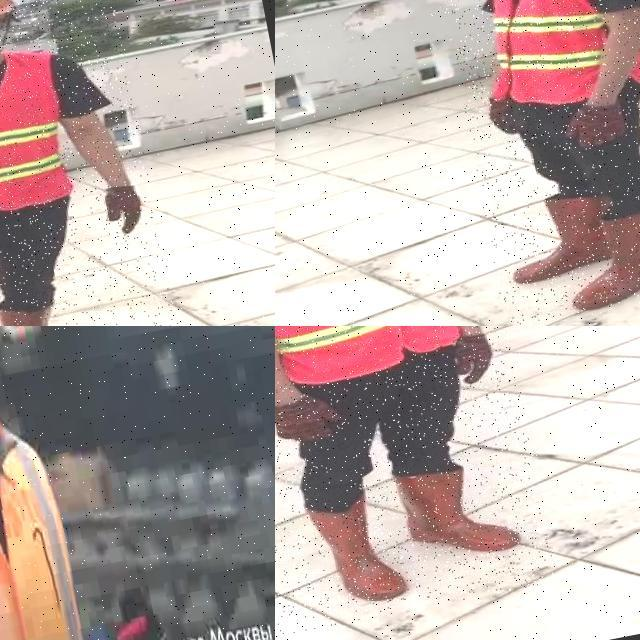boots: (396, 454, 524, 568), (304, 488, 412, 614), (504, 187, 626, 285), (553, 204, 640, 313), (0, 295, 73, 326)
vest: (0, 394, 108, 640), (469, 0, 640, 112), (0, 48, 74, 227), (275, 326, 463, 393)
